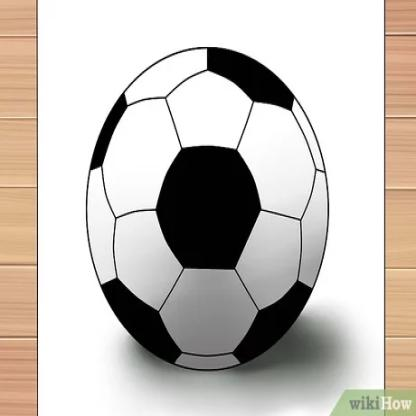ball: (86, 46, 328, 371)
